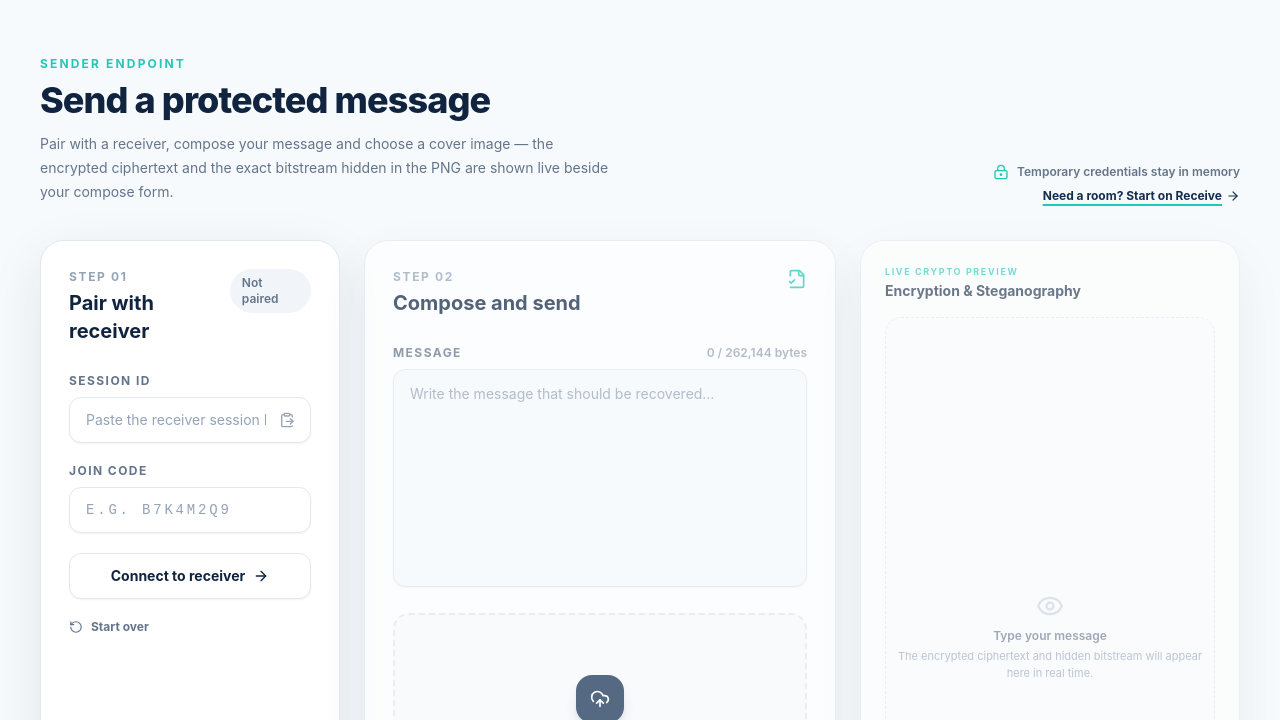
Scenario: SendMessagePage › shows pairing errors returned by the API
In the field with placeholder "Paste the receiver session ID": point(190, 420) [69,397,311,443], type "session-123"
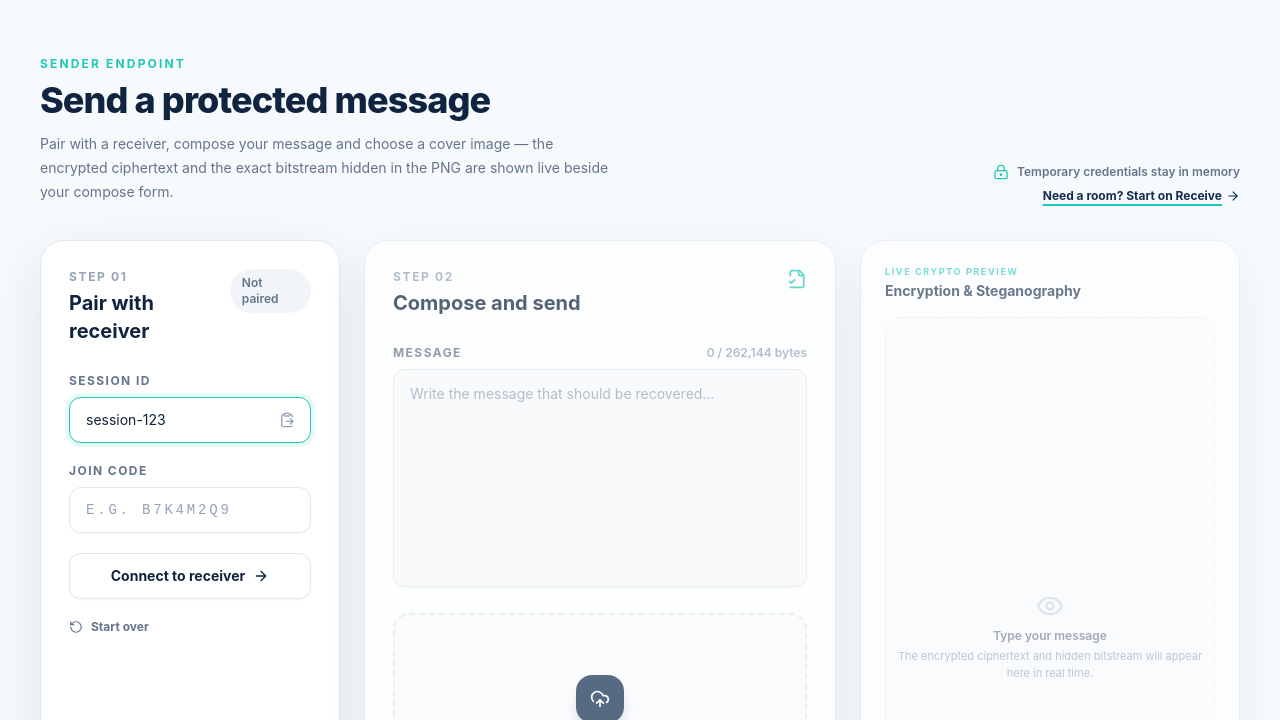
In the field with placeholder "e.g. B7K4M2Q9": point(190, 510) [69,487,311,533], type "B7K4M2Q9"
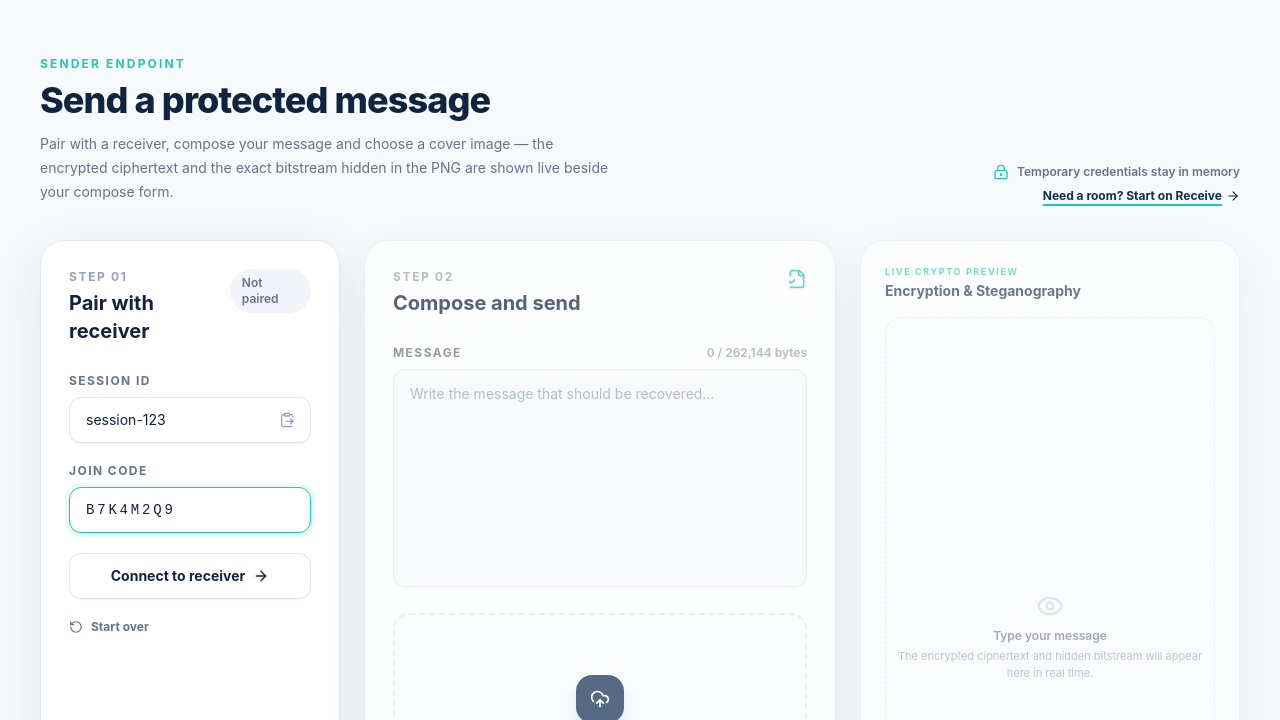
Click the button "Connect to receiver": point(190, 576) [69,553,311,599]
(page scrolled)
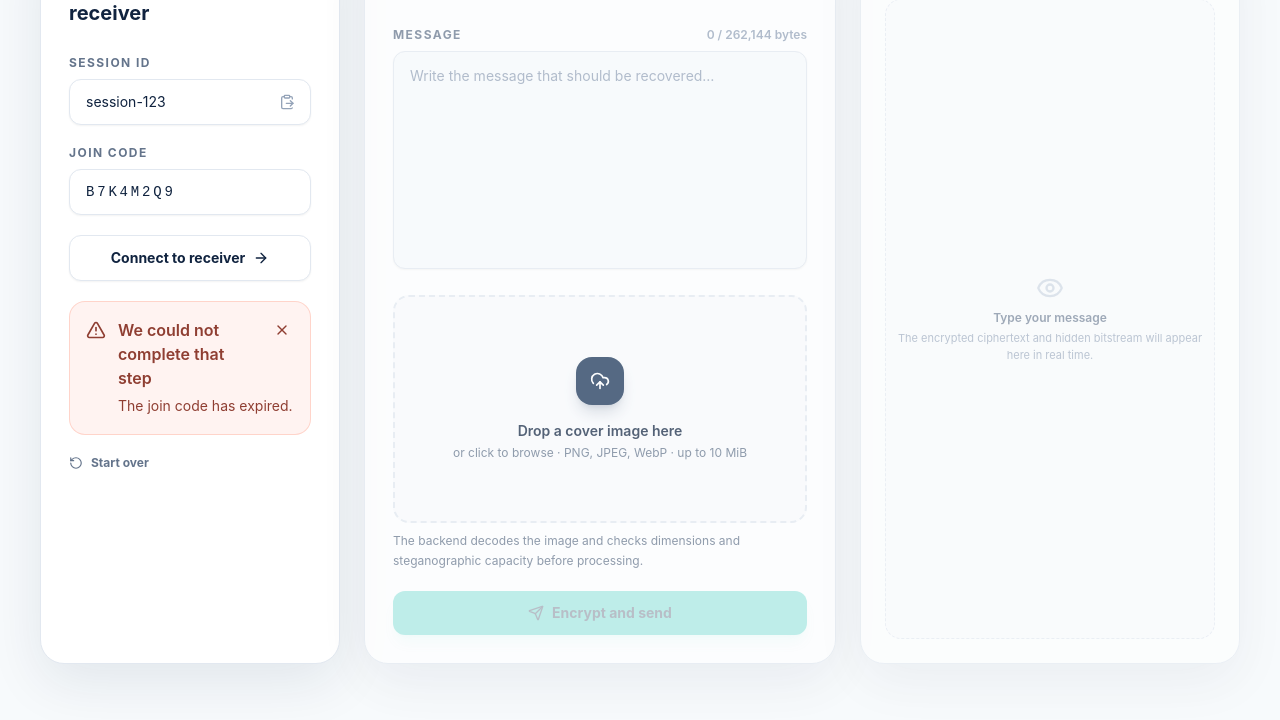
Expected: the message shows "The join code has expired.", [118,397,293,414]
